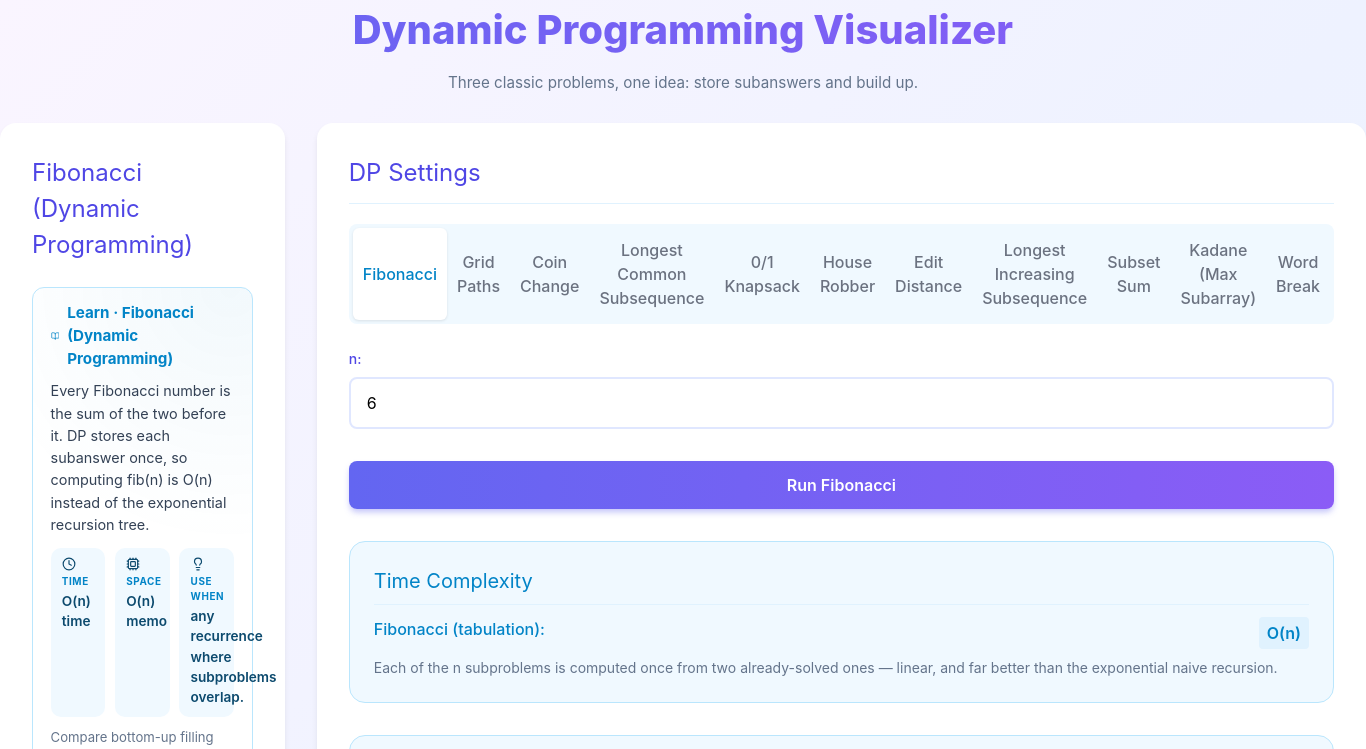
it: DynamicProgramming › grid tab counts paths on a 2x2 grid
Click the button "Grid Paths" at (478, 274), box x1=447 y1=228 x2=510 y2=320
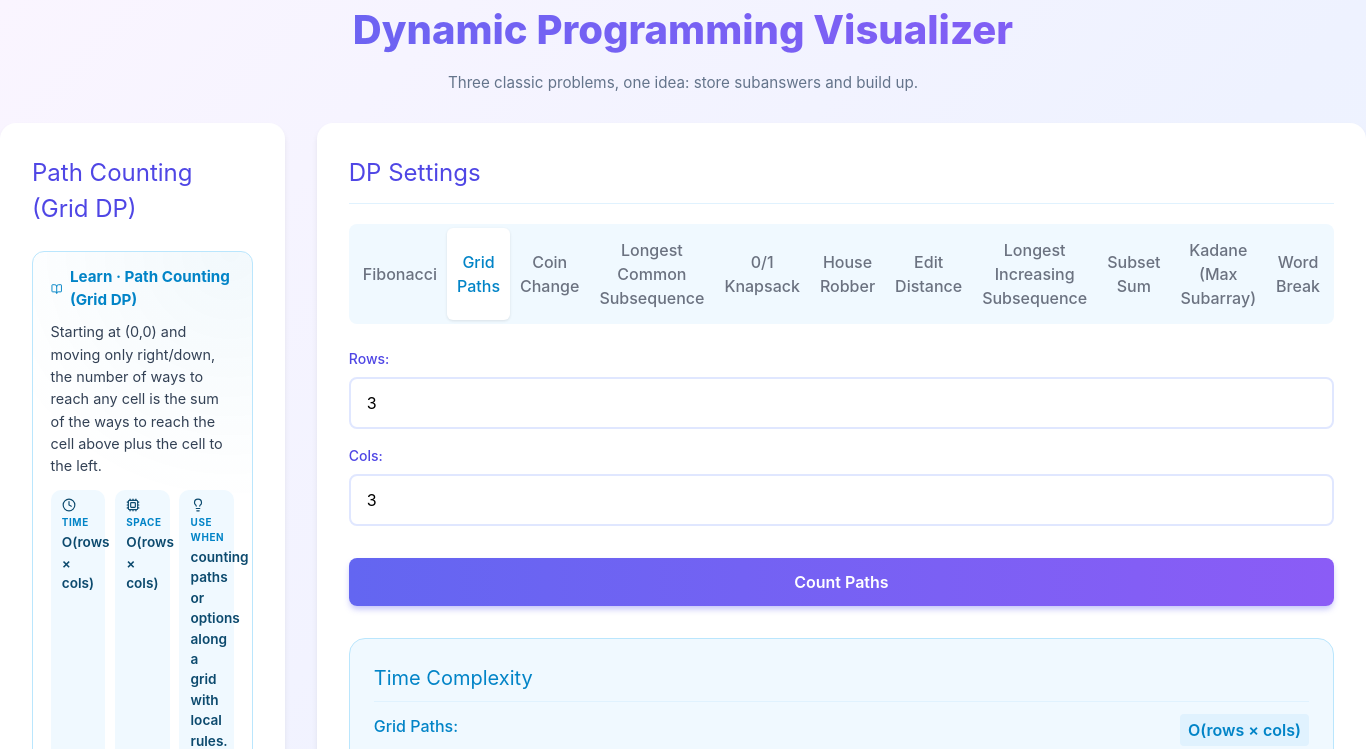
Replace the text in the number field with placeholder "rows" below "Rows:" with "2" at (841, 403), box x1=349 y1=377 x2=1334 y2=429
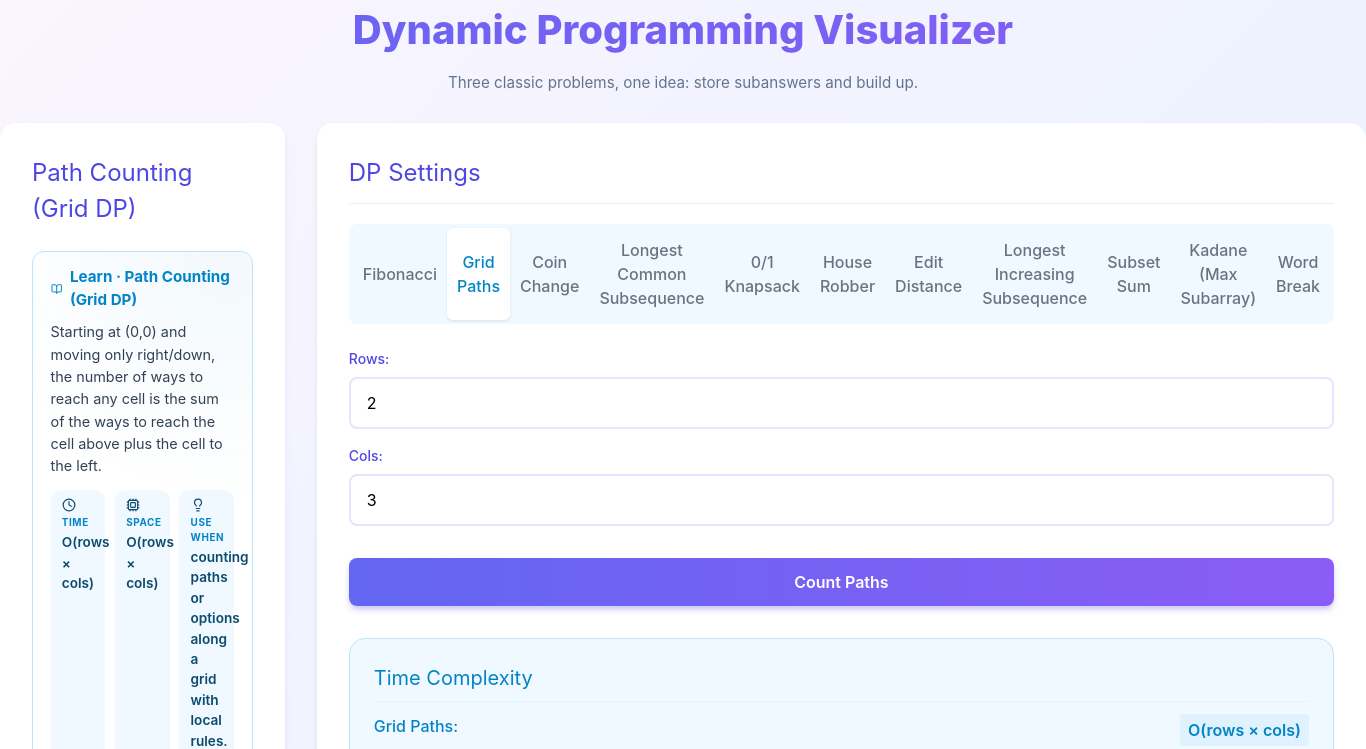
Replace the text in the number field with placeholder "cols" below "Cols:" with "2" at (841, 500), box x1=349 y1=474 x2=1334 y2=526
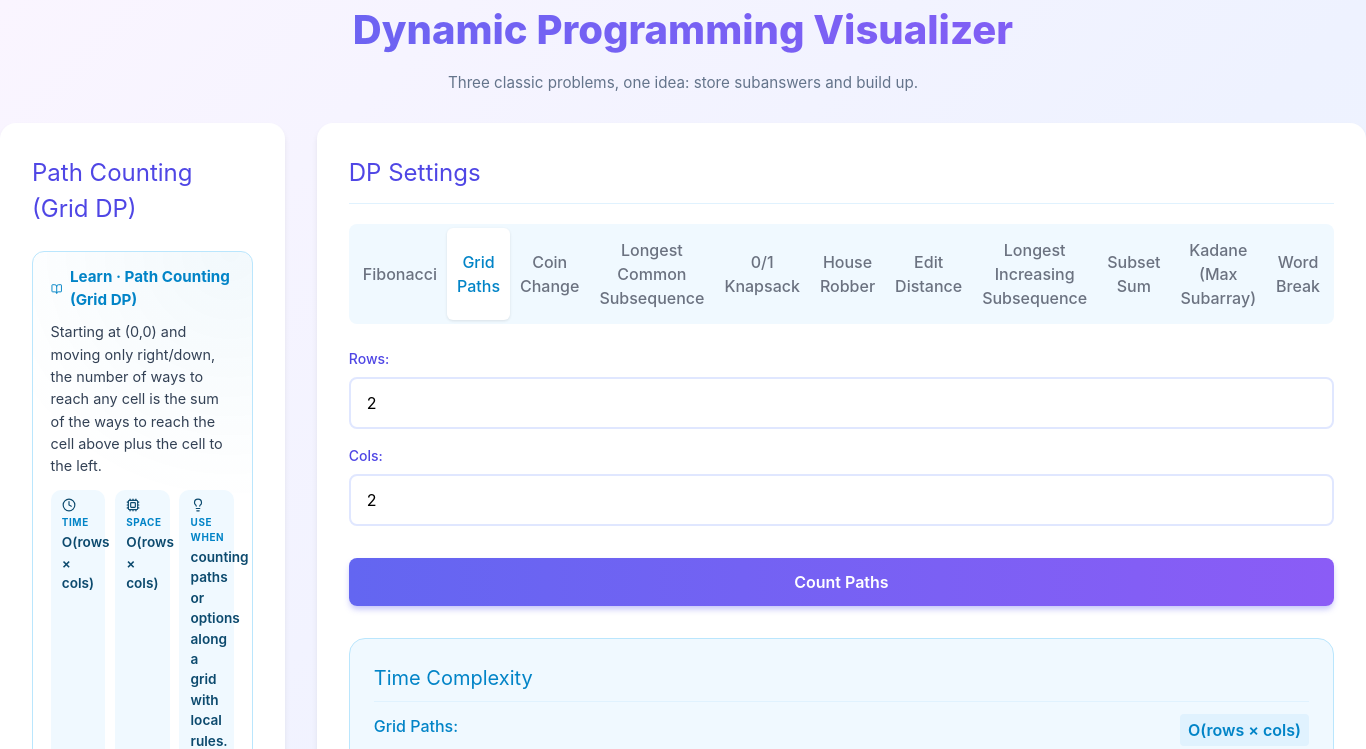
Click the button "Count Paths" at (841, 582), box x1=349 y1=558 x2=1334 y2=606
Wait 60000 ms
(page scrolled)
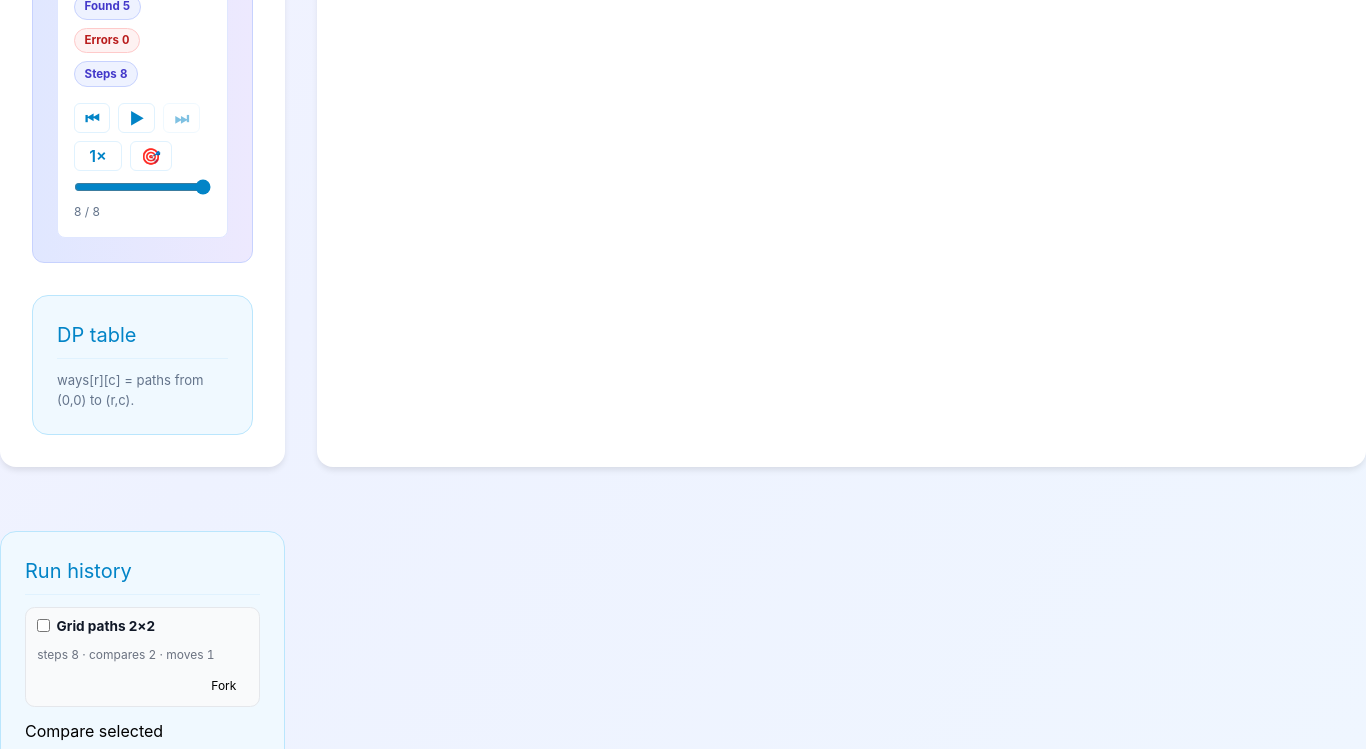
Expected: the text "Grid paths 2×2" is shown, x1=57 y1=616 x2=155 y2=636
